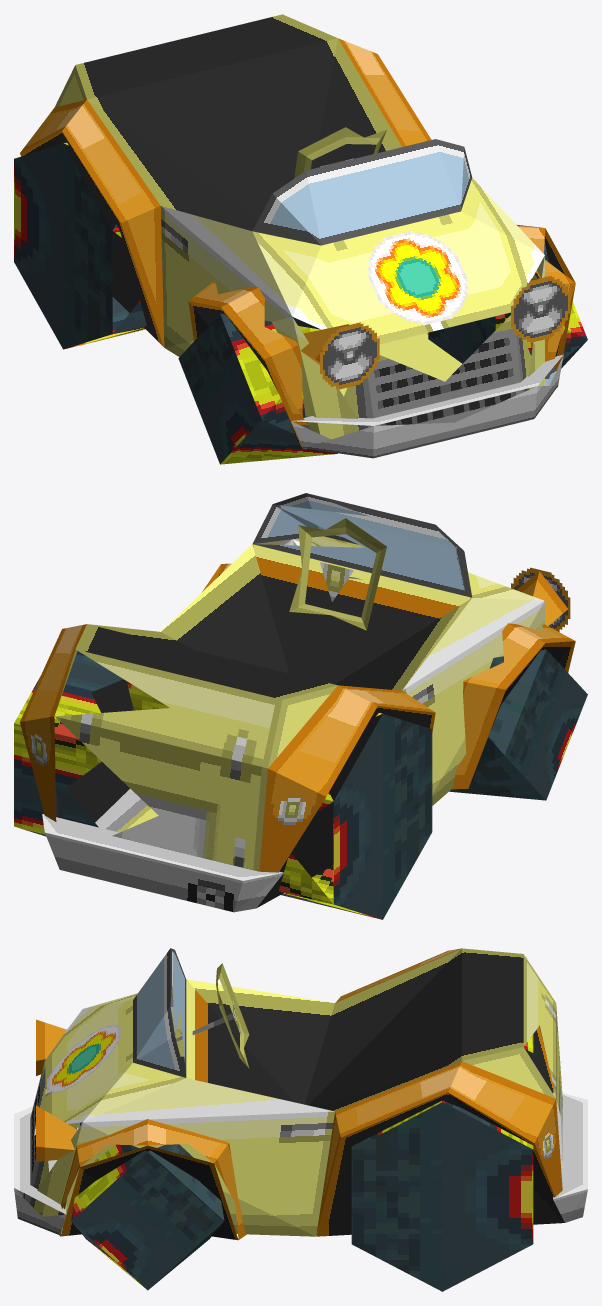
File: kart_DS_c.glb
3 renders of one model, top to bottom at view 1: azimuth 30°, elevation 25°; view 2: azimuth 150°, elevation 25°; view 3: azimuth 270°, elevation 25°, orthographic. The views are drawn at different scales.
Parts seen in each view (by area): view 1: kart_DS_c; view 2: kart_DS_c; view 3: kart_DS_c.
Part boxes in pixels (<box>): kart_DS_c: <box>14,14,587,464</box>; kart_DS_c: <box>14,493,587,919</box>; kart_DS_c: <box>14,948,587,1291</box>.
Size of the model in its own units: 0.7764 by 0.6213 by 1.29.
3 materials, 3 textured.
